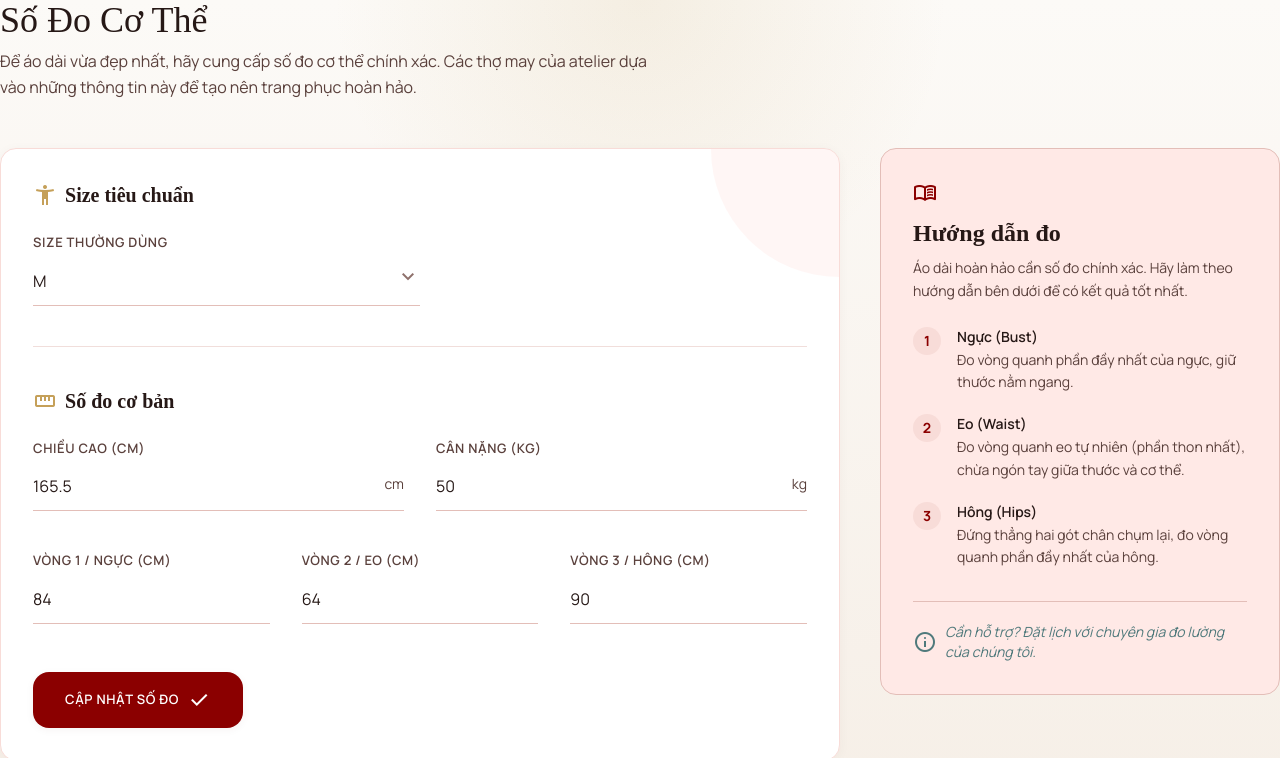
Test case: CustomerMeasurementsPage › loads and saves the latest customer measurements
Select "L" in the dropdown labelled "Size thường dùng" at (226, 281), box [33,256,420,306]
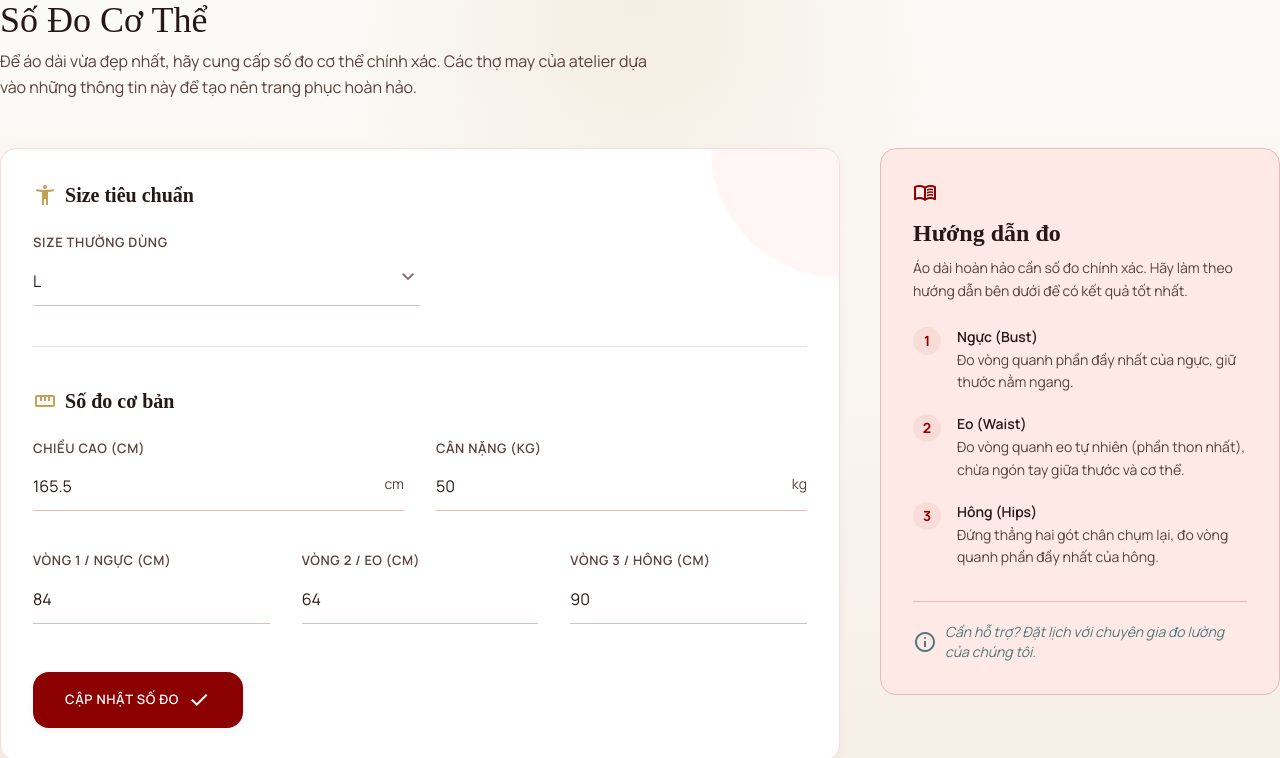
Click the button "Cập nhật số đo".
click(138, 700)  # box [33,672,243,728]
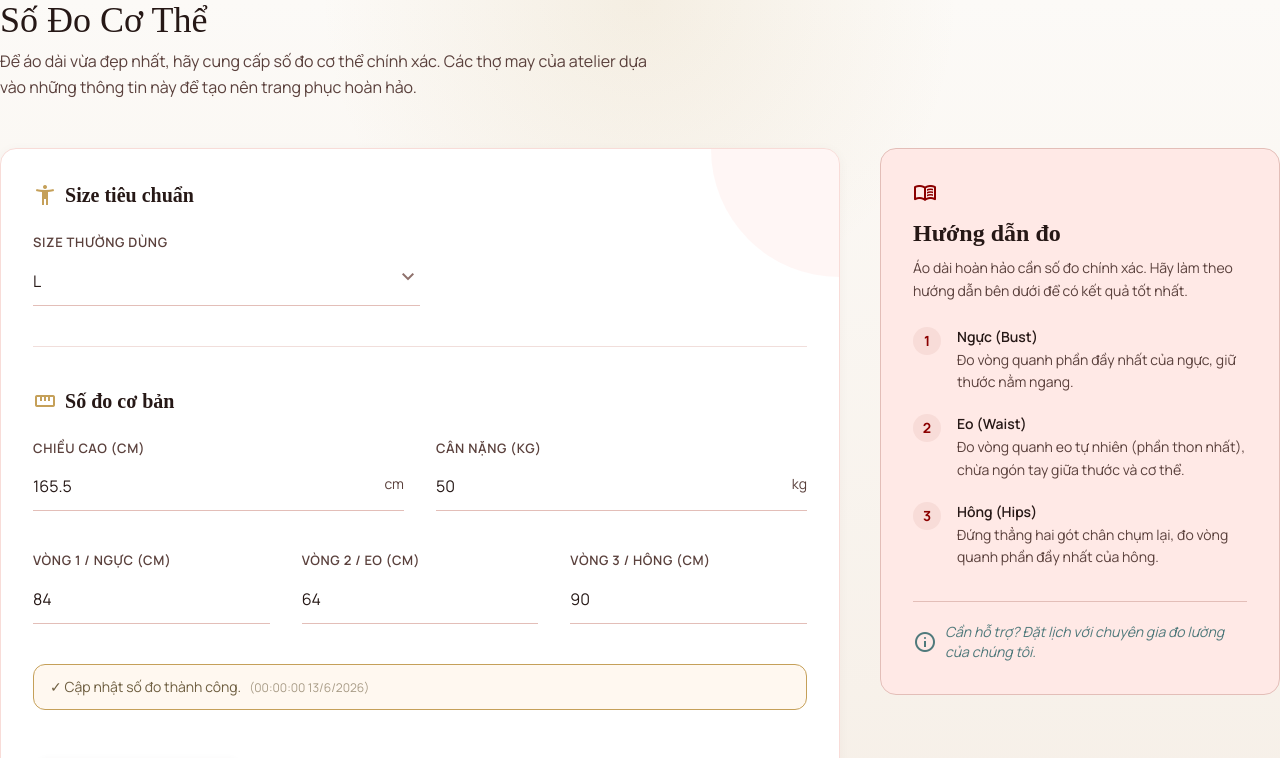
Check: the text "✓ Cập nhật số đo thành công.(00:00:00 13/6/2026)" is shown, box [33,664,807,710]
